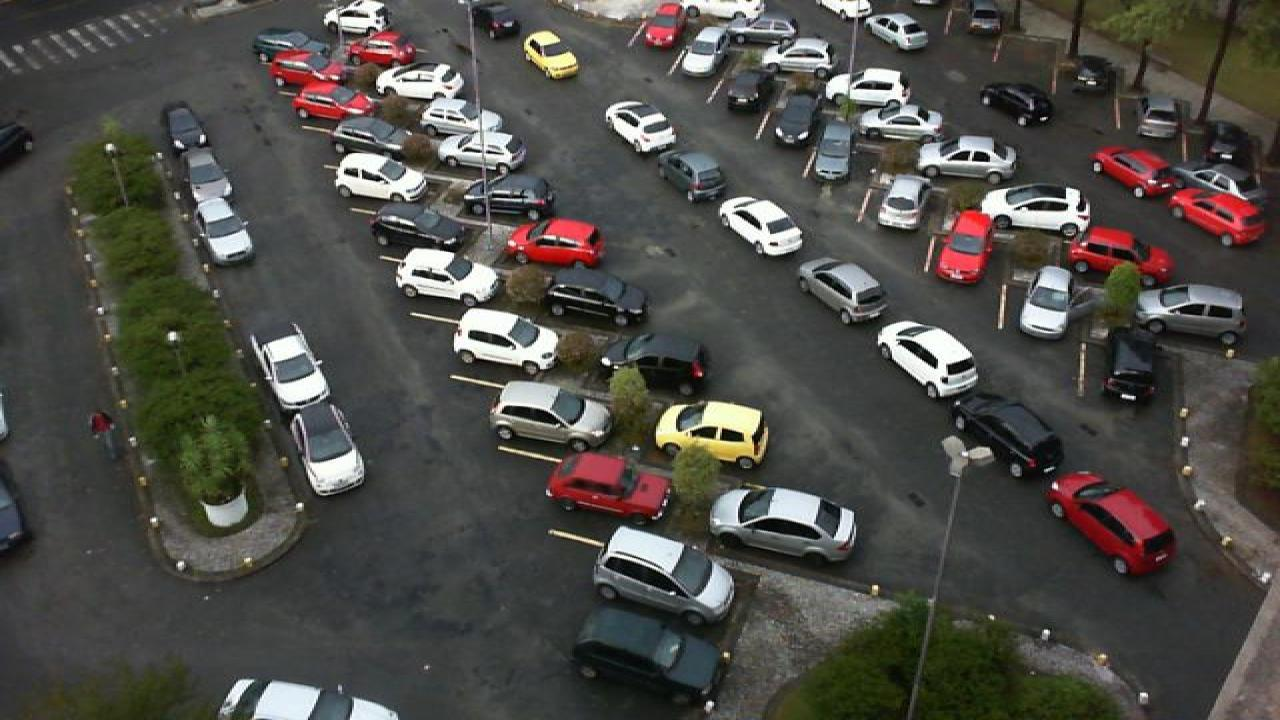Car: (568, 602, 728, 708), (590, 524, 740, 627), (1046, 470, 1180, 576), (706, 485, 862, 566), (950, 392, 1070, 478), (542, 450, 674, 521), (486, 379, 616, 451), (656, 398, 770, 470), (876, 320, 980, 397), (596, 332, 714, 399), (214, 678, 402, 720), (284, 404, 368, 496), (250, 321, 332, 413), (540, 263, 650, 330), (450, 307, 562, 371), (1134, 282, 1248, 344), (392, 245, 504, 307), (1066, 225, 1176, 283), (796, 258, 892, 324), (978, 184, 1094, 238), (718, 195, 806, 258), (1168, 188, 1266, 244), (504, 216, 606, 269), (364, 207, 466, 259), (332, 151, 428, 205), (460, 174, 556, 225), (1098, 327, 1160, 405), (1092, 147, 1184, 198), (918, 134, 1020, 180), (936, 210, 998, 284), (1018, 263, 1074, 341), (432, 128, 526, 174), (196, 197, 258, 263), (328, 112, 416, 158), (606, 99, 678, 154), (822, 66, 912, 110), (660, 148, 730, 202), (1172, 160, 1268, 199), (980, 81, 1058, 128), (874, 170, 932, 232), (294, 81, 376, 124), (804, 116, 858, 180), (376, 62, 464, 101), (860, 100, 944, 140), (770, 89, 828, 146), (420, 96, 498, 138), (756, 37, 836, 74), (522, 30, 580, 80), (674, 26, 728, 78), (268, 50, 336, 91), (864, 11, 930, 52), (160, 100, 210, 154), (1068, 54, 1126, 99), (174, 143, 226, 192), (322, 0, 394, 35), (722, 66, 776, 112), (346, 30, 414, 66), (720, 17, 802, 46), (186, 176, 236, 222), (1136, 94, 1182, 140), (252, 27, 314, 59), (642, 3, 684, 48), (688, 0, 766, 24), (472, 2, 516, 38), (968, 0, 1004, 36)
